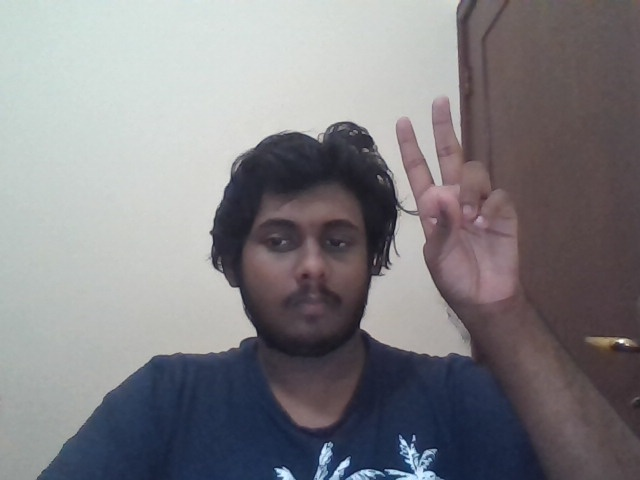peace: (395, 96, 520, 308)
